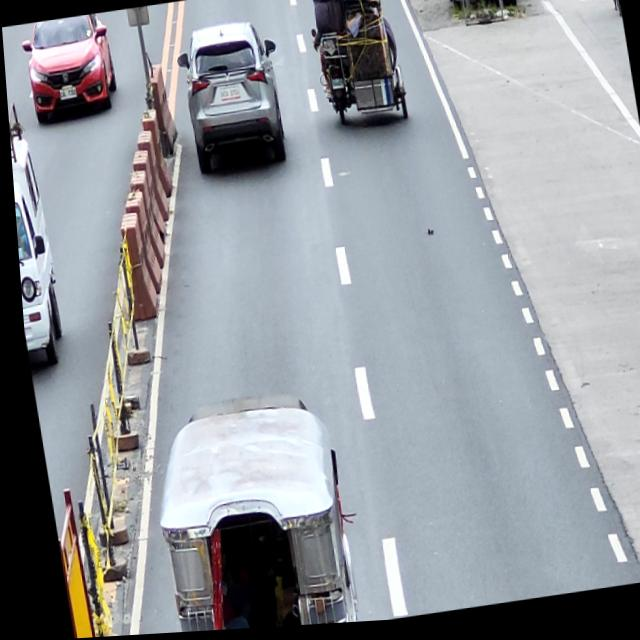Car: (170, 21, 292, 178), (7, 126, 60, 366), (17, 13, 120, 125)
Jeep: (134, 389, 350, 635)
License-Plate: (217, 89, 239, 103), (56, 87, 76, 101), (329, 81, 342, 93)
Tricycle: (308, 19, 409, 135)
